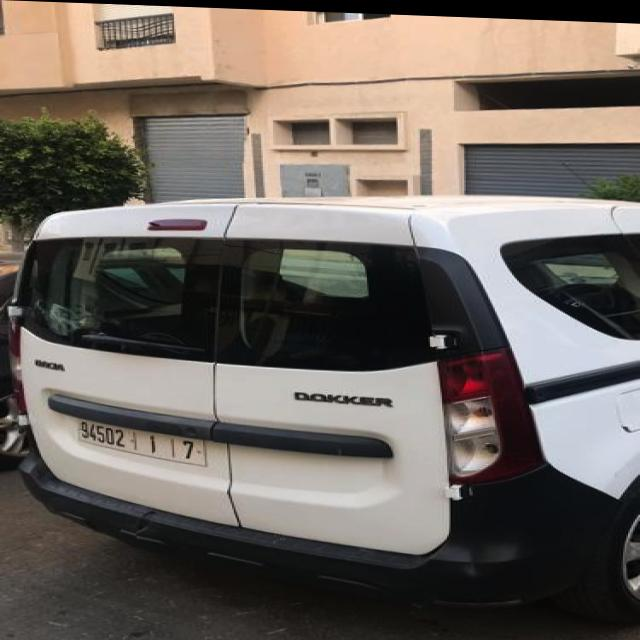License-Plate: (78, 420, 207, 463)
